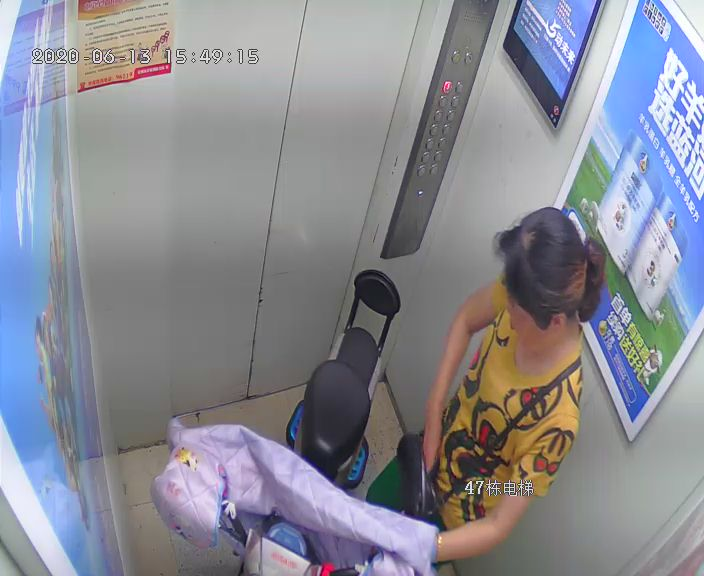Electric-bicycle: (251, 265, 396, 576)
